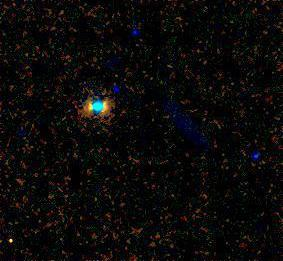star: (120, 19, 150, 49)
